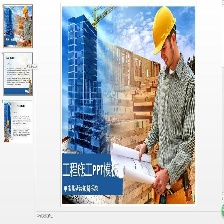helmet: (150, 8, 179, 53)
no-vest: (158, 68, 196, 178)
person: (147, 8, 195, 205)
